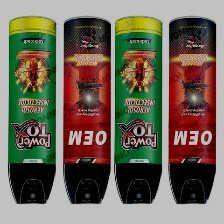aerosol_cans: (6, 14, 59, 208), (113, 14, 166, 206), (167, 14, 219, 208), (61, 13, 112, 207)
